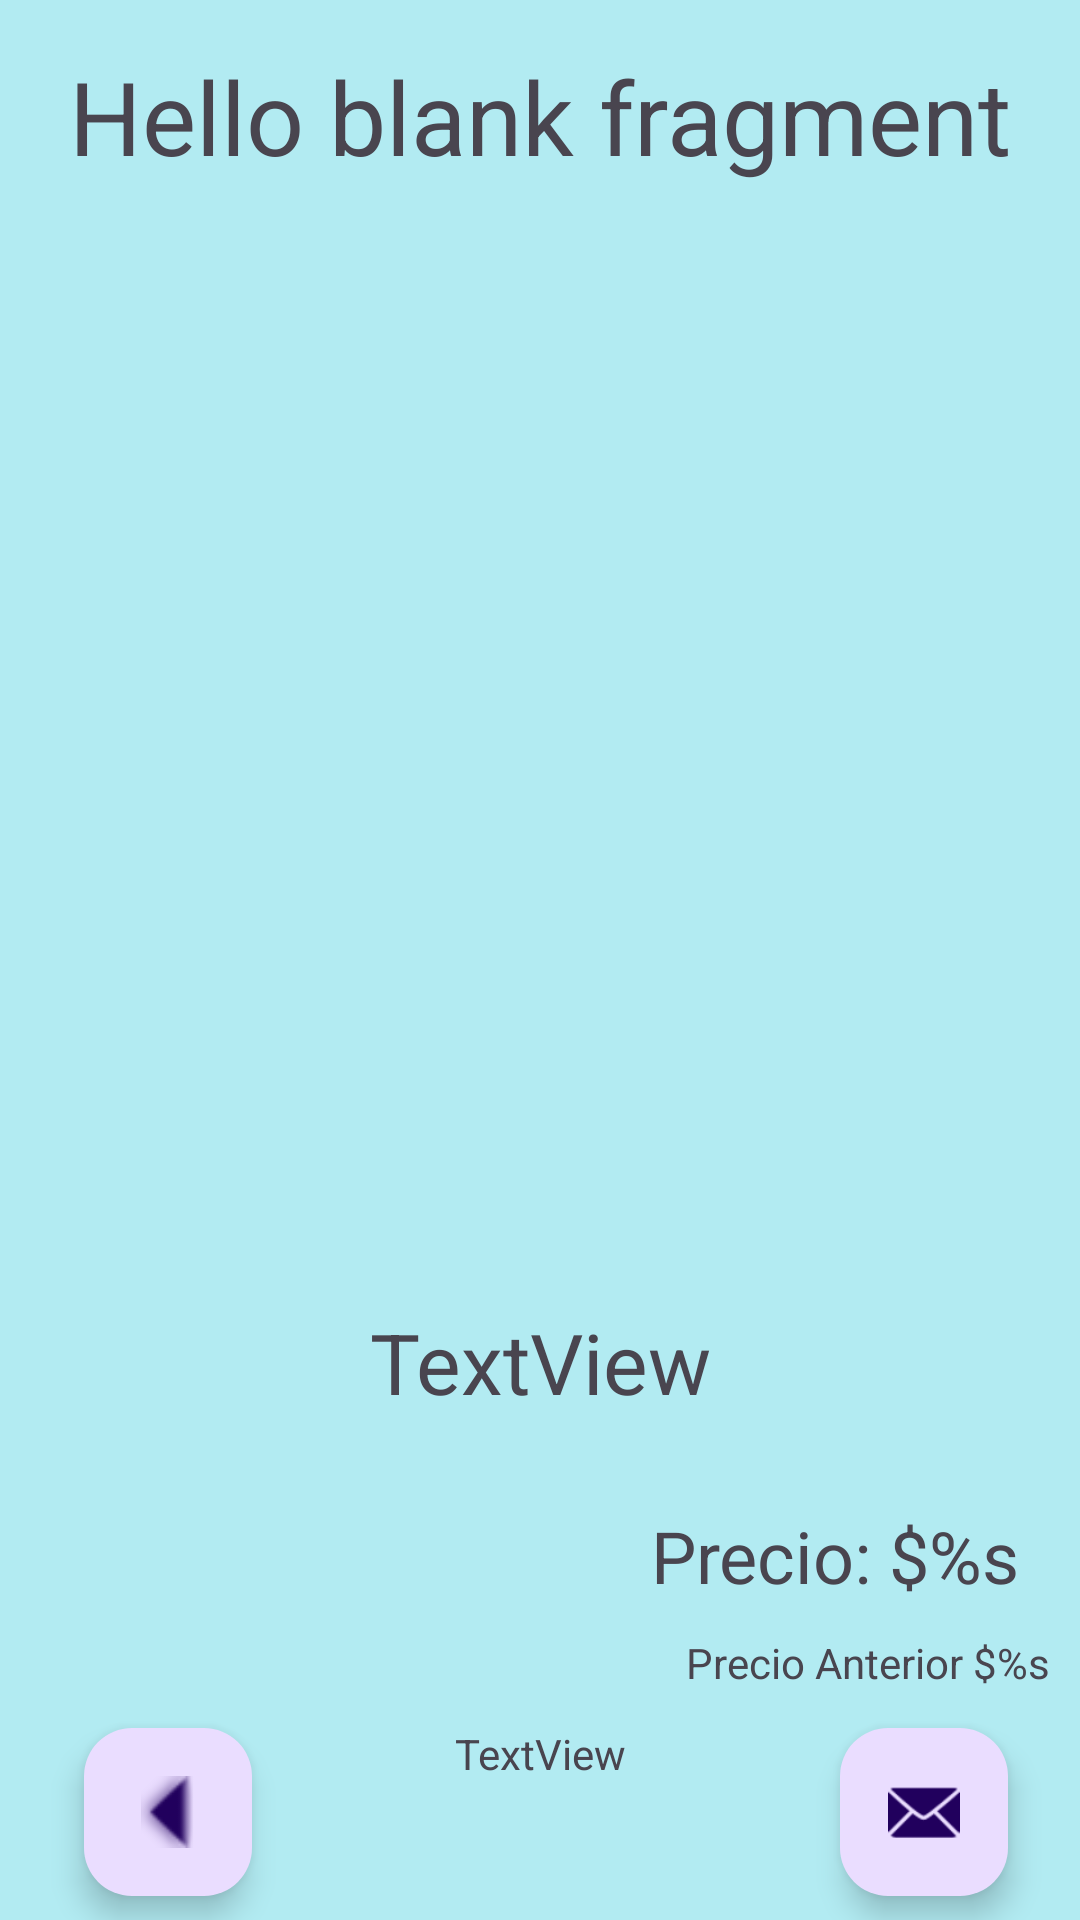

Where to tap for icons on this 1080x1920 app screen, as point (x, y):
Enviar correo con el producto: point (924, 1812)
